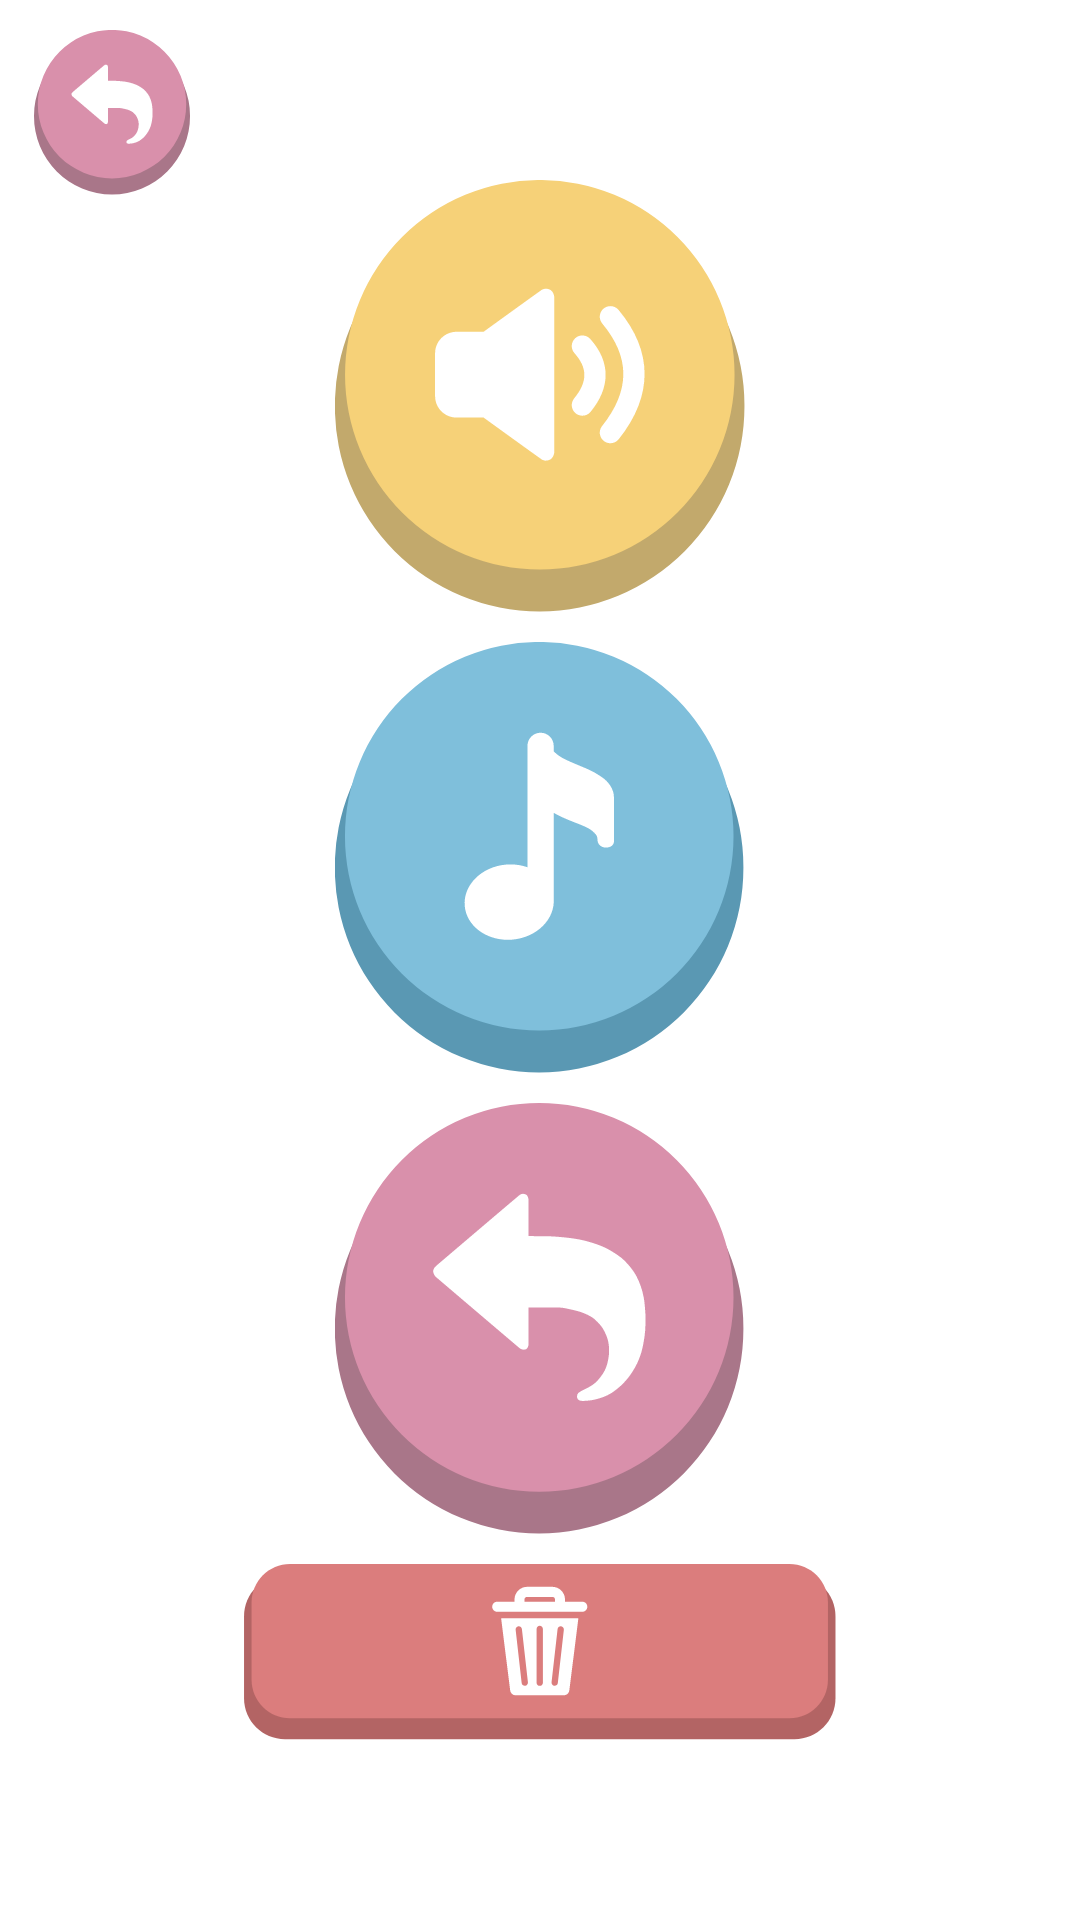

Screen size 1080*1920. Icon name, then its center in pixels as (x,y):
back: (112,112)
